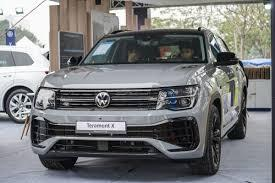volkswagen: (90, 86, 114, 112)
